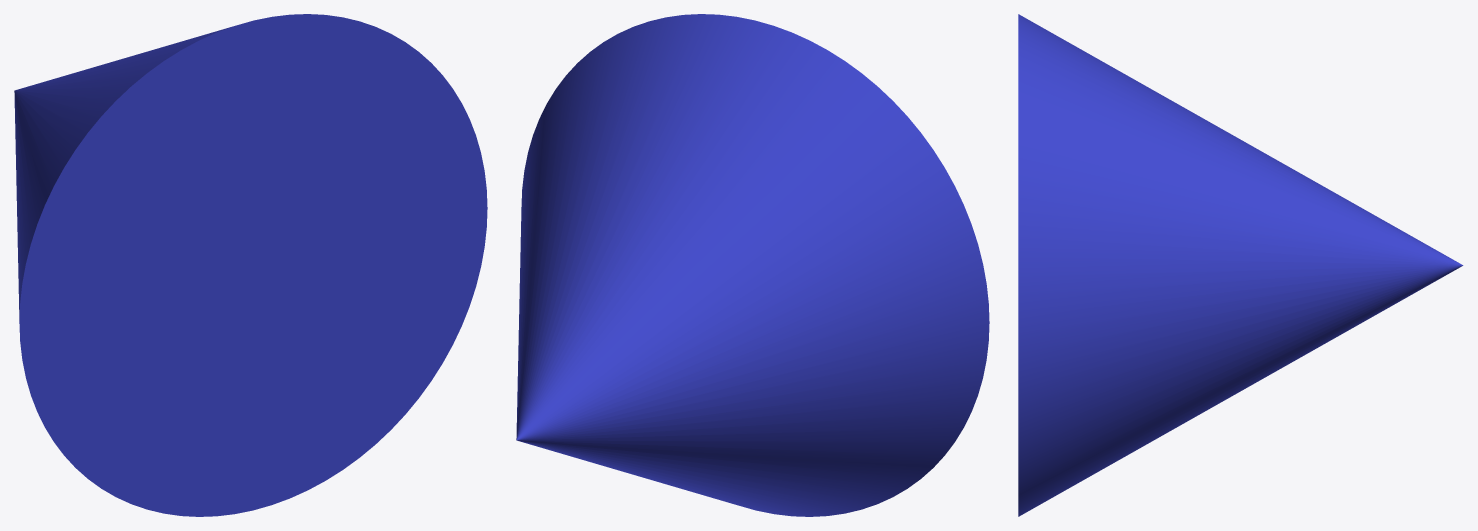
3 renders of one model, left to right at view 1: azimuth 30°, elevation 25°; view 2: azimuth 150°, elevation 25°; view 3: azimuth 270°, elevation 25°, orthographic. The views are drawn at different scales.
Parts seen in each view (by area): view 1: root; view 2: root; view 3: root.
Boxes of the visible parts, x1=… form: root: x1=14, y1=14, x2=487, y2=516; root: x1=516, y1=14, x2=989, y2=516; root: x1=1018, y1=14, x2=1463, y2=516.
Bounding box in the file's own units: 0.1478 × 0.1478 × 0.1308.
